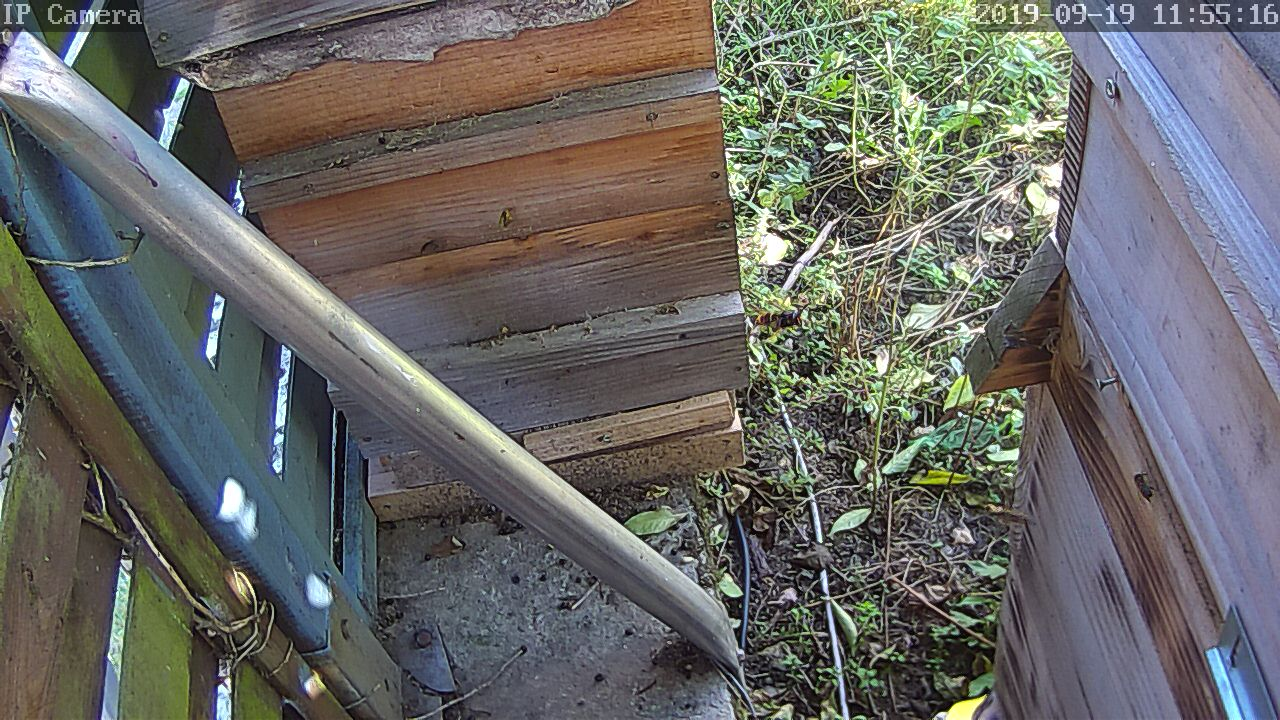bee: (1129, 469, 1163, 504)
hornet: (750, 305, 812, 335)
